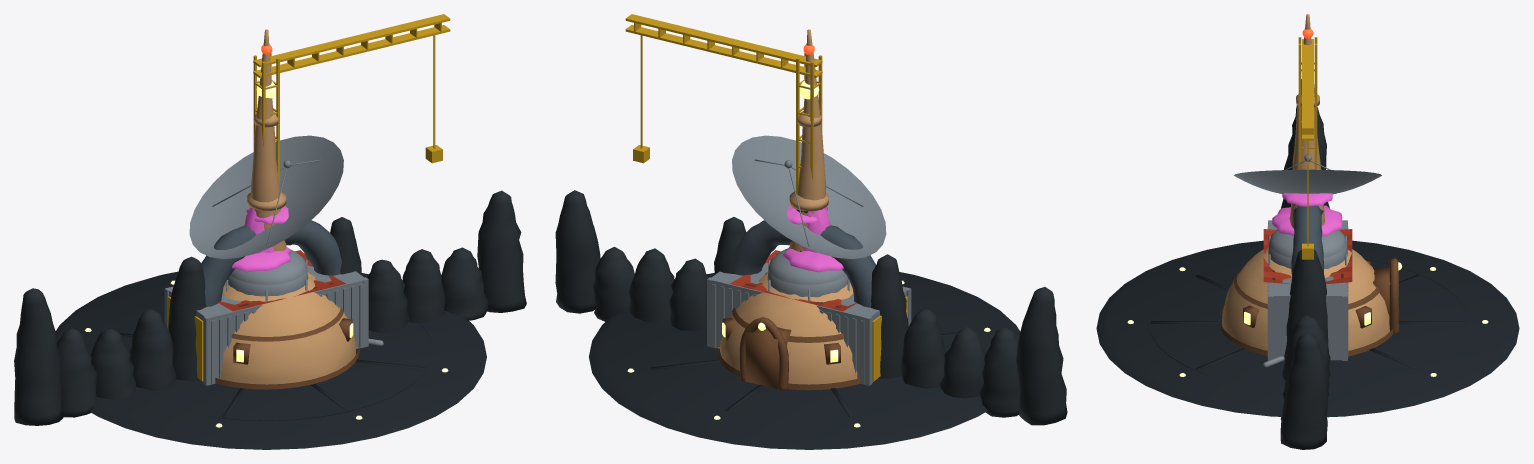
Rendered from worlds.glb.
3 renders of one model, left to right at view 1: azimuth 30°, elevation 25°; view 2: azimuth 150°, elevation 25°; view 3: azimuth 270°, elevation 25°, orthographic. The views are drawn at different scales.
Parts seen in each view (by area): view 1: Pad, HandWall, Hum_Dish, Kess_Hut, Hum_Crane, Hum_Container, Grol_Arch, Kess_Spire, Hum_Tank, Umma_Coral, Kess_HutBand, Kess_Awning (+1 smaller); view 2: Pad, HandWall, Hum_Dish, Kess_Hut, Hum_Crane, Hum_Container, Grol_Arch, Kess_HutDoor, Kess_Spire, Hum_Tank, Umma_Coral, Kess_HutBand (+2 smaller); view 3: Pad, HandWall, Kess_Hut, Hum_Container, Hum_Dish, Hum_Crane, Hum_Tank, Kess_HutDoor, Umma_Coral, Grol_Arch, Kess_Spire, Kess_Awning (+1 smaller).
Boxes of the visible parts, x1,y1,x2,y2 form: Pad: [55, 271, 486, 449]; HandWall: [14, 190, 526, 425]; Hum_Dish: [189, 135, 343, 258]; Kess_Hut: [218, 272, 355, 384]; Hum_Crane: [253, 14, 450, 188]; Hum_Container: [164, 265, 368, 385]; Grol_Arch: [201, 220, 341, 306]; Kess_Spire: [247, 29, 286, 251]; Hum_Tank: [226, 249, 383, 345]; Umma_Coral: [232, 205, 290, 272]; Kess_HutBand: [215, 307, 359, 389]; Kess_Awning: [218, 250, 346, 311]; Pad: [589, 272, 1020, 449]; HandWall: [555, 190, 1067, 425]; Hum_Dish: [732, 135, 886, 258]; Kess_Hut: [720, 272, 857, 384]; Hum_Crane: [625, 14, 822, 194]; Hum_Container: [707, 254, 911, 385]; Grol_Arch: [734, 220, 875, 307]; Kess_HutDoor: [723, 317, 840, 390]; Kess_Spire: [789, 29, 828, 251]; Hum_Tank: [767, 248, 849, 300]; Umma_Coral: [783, 205, 843, 272]; Kess_HutBand: [716, 307, 860, 390]; Pad: [1096, 240, 1519, 417]; HandWall: [1280, 105, 1330, 449]; Kess_Hut: [1222, 247, 1389, 350]; Hum_Container: [1267, 220, 1348, 360]; Hum_Dish: [1234, 154, 1381, 194]; Hum_Crane: [1298, 37, 1317, 259]; Hum_Tank: [1263, 229, 1347, 367]; Kess_HutDoor: [1243, 258, 1398, 333]; Umma_Coral: [1272, 193, 1342, 236]; Grol_Arch: [1291, 205, 1323, 275]; Kess_Spire: [1290, 14, 1324, 228]; Kess_Awning: [1263, 229, 1352, 284].
Size of the model in its own units: 19.67 by 14.22 by 14.8.
